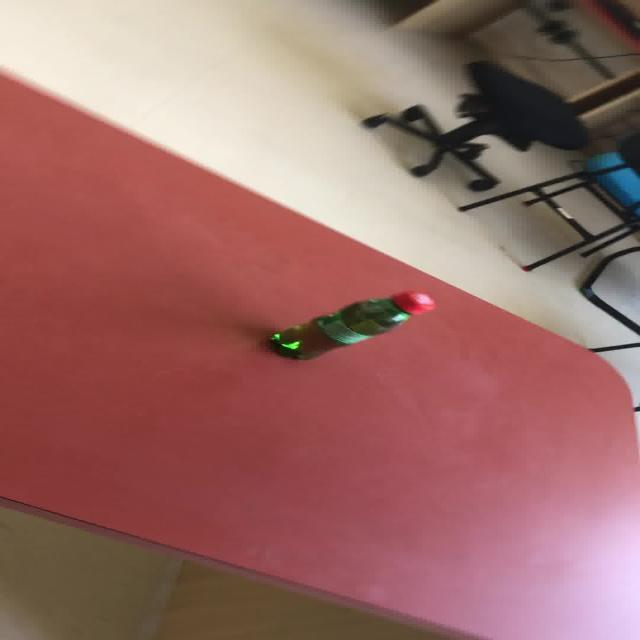guarana: (267, 289, 436, 360)
